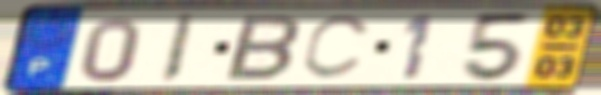0: (74, 13, 146, 85)
1: (400, 12, 436, 82)
5: (456, 9, 544, 83)
B: (220, 13, 304, 83)
C: (298, 12, 377, 82)
I: (156, 12, 200, 86)
